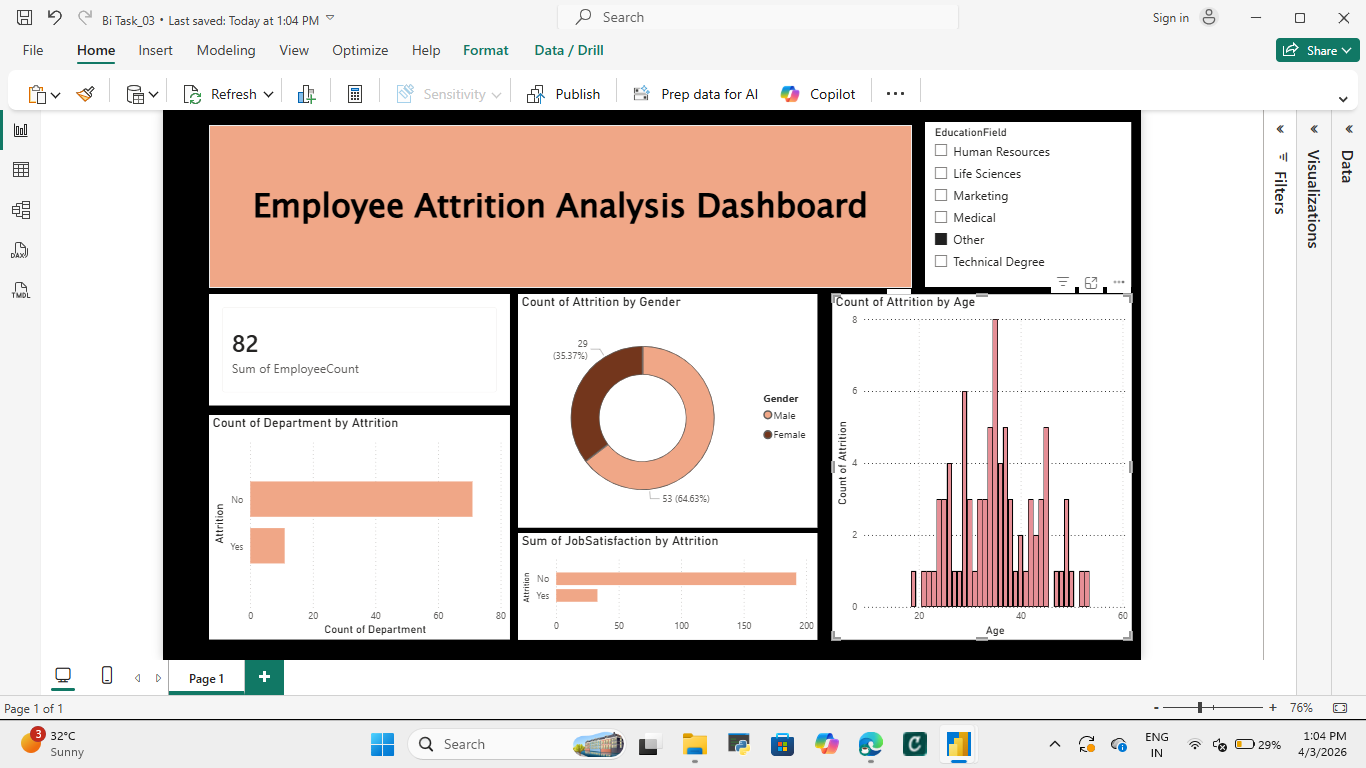

The dashboard page shown, as its layout file describes it:
{"tool":"powerbi","page":{"name":"Page 1","canvas":[1280,720],"ordinal":0},"visuals":[{"type":"donutChart","fields":{"Category":["WA_Fn-UseC_-HR-Employee-Attrition.Gender"],"Y":["CountNonNull(WA_Fn-UseC_-HR-Employee-Attrition.Attrition)"]},"box":[464.3,241,392.3,305.6],"z":1000},{"type":"columnChart","fields":{"Category":["WA_Fn-UseC_-HR-Employee-Attrition.Age"],"Y":["CountNonNull(WA_Fn-UseC_-HR-Employee-Attrition.Attrition)"]},"box":[875.8,241,392.3,452.6],"z":2000},{"type":"cardVisual","fields":{"Data":["Sum(WA_Fn-UseC_-HR-Employee-Attrition.EmployeeCount)"]},"box":[59.9,241.2,394.4,146.1],"z":3000},{"type":"shape","box":[60.2,19.6,920.3,213.4],"z":4000},{"type":"slicer","fields":{"Values":["WA_Fn-UseC_-HR-Employee-Attrition.EducationField"]},"box":[997.7,16.2,270.4,216],"z":5000},{"type":"barChart","fields":{"Y":["Sum(WA_Fn-UseC_-HR-Employee-Attrition.JobSatisfaction)"],"Category":["WA_Fn-UseC_-HR-Employee-Attrition.Attrition"]},"box":[464.3,554,392.3,139.6],"z":6000},{"type":"barChart","fields":{"Category":["WA_Fn-UseC_-HR-Employee-Attrition.Attrition"],"Y":["CountNonNull(WA_Fn-UseC_-HR-Employee-Attrition.Department)"]},"box":[60.2,399.7,393.8,293.9],"z":6001}]}

Visuals, with their boxes on the page's 1280x720 design canvas (x1, y1, x2, y2). These are canvas units, not pixel positions in the 1366x768 screenshot, which may show the page scaled, cropped or inside an application window:
donutChart - WA_Fn-UseC_-HR-Employee-Attrition.Gender x CountNonNull(WA_Fn-UseC_-HR-Employee-Attrition.Attrition): (left=464, top=241, right=857, bottom=547)
columnChart - WA_Fn-UseC_-HR-Employee-Attrition.Age x CountNonNull(WA_Fn-UseC_-HR-Employee-Attrition.Attrition): (left=876, top=241, right=1268, bottom=694)
cardVisual - Sum(WA_Fn-UseC_-HR-Employee-Attrition.EmployeeCount): (left=60, top=241, right=454, bottom=387)
shape: (left=60, top=20, right=980, bottom=233)
slicer - WA_Fn-UseC_-HR-Employee-Attrition.EducationField: (left=998, top=16, right=1268, bottom=232)
barChart - Sum(WA_Fn-UseC_-HR-Employee-Attrition.JobSatisfaction) x WA_Fn-UseC_-HR-Employee-Attrition.Attrition: (left=464, top=554, right=857, bottom=694)
barChart - WA_Fn-UseC_-HR-Employee-Attrition.Attrition x CountNonNull(WA_Fn-UseC_-HR-Employee-Attrition.Department): (left=60, top=400, right=454, bottom=694)
